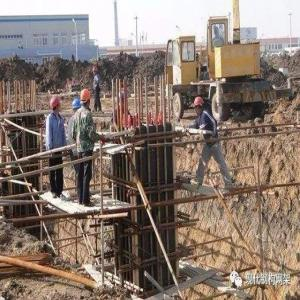blue: (73, 99, 82, 116)
red: (50, 97, 62, 115), (194, 96, 204, 115)
yellow: (82, 89, 92, 109)
